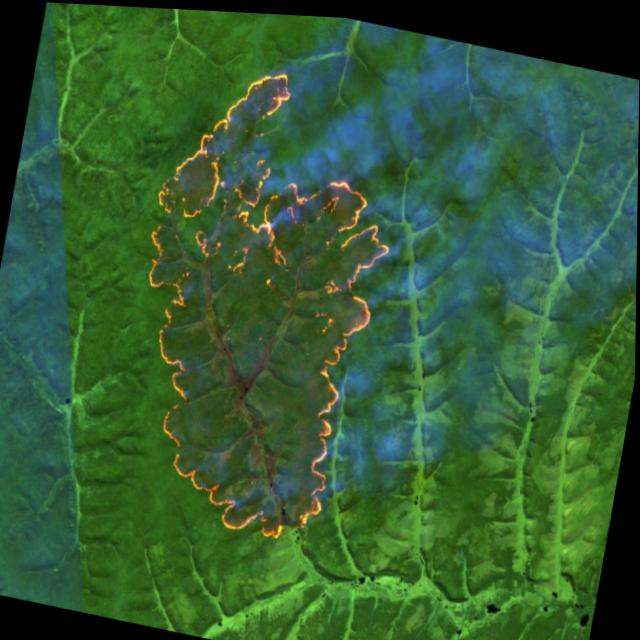fire: (98, 28, 426, 564)
